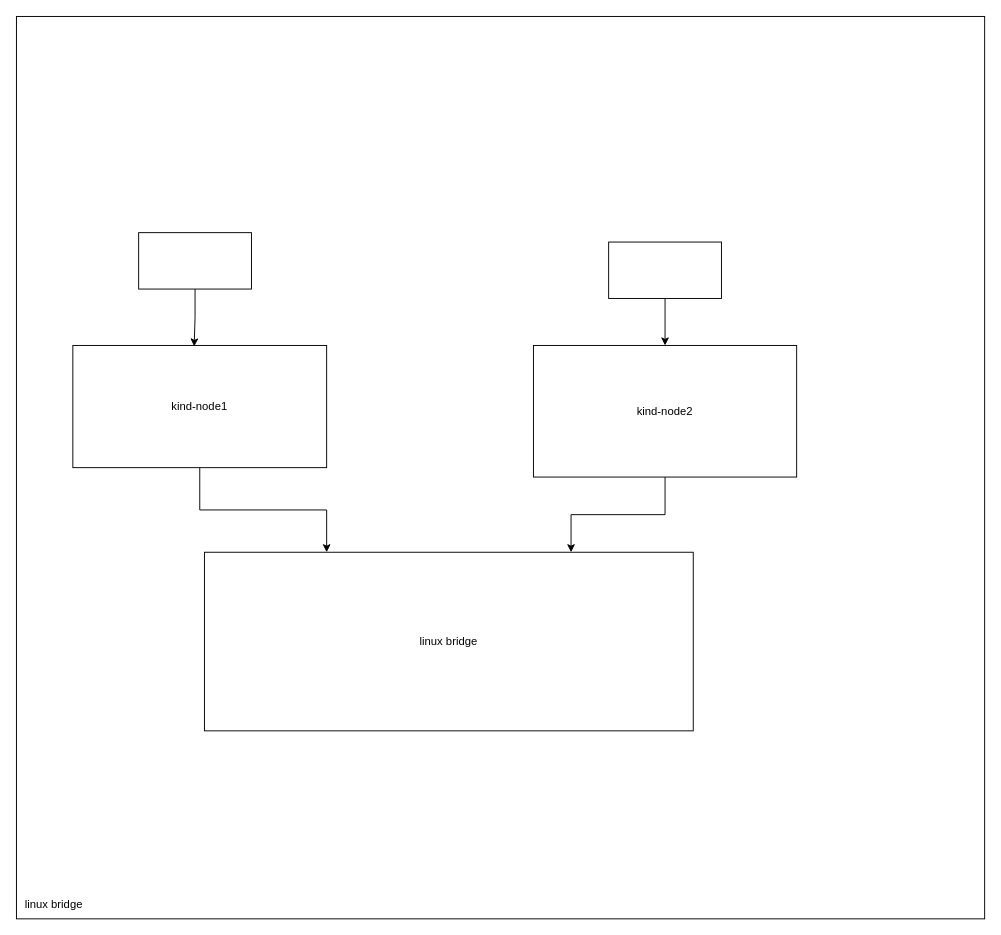
The diagram is 1001 pixels wide and 935 high, and some of its shapes have lost their labels. Here are the shapes that lost their labels. From the top down, the centre of each, then its label:
the point at 194,260: container1
the point at 664,269: container2
